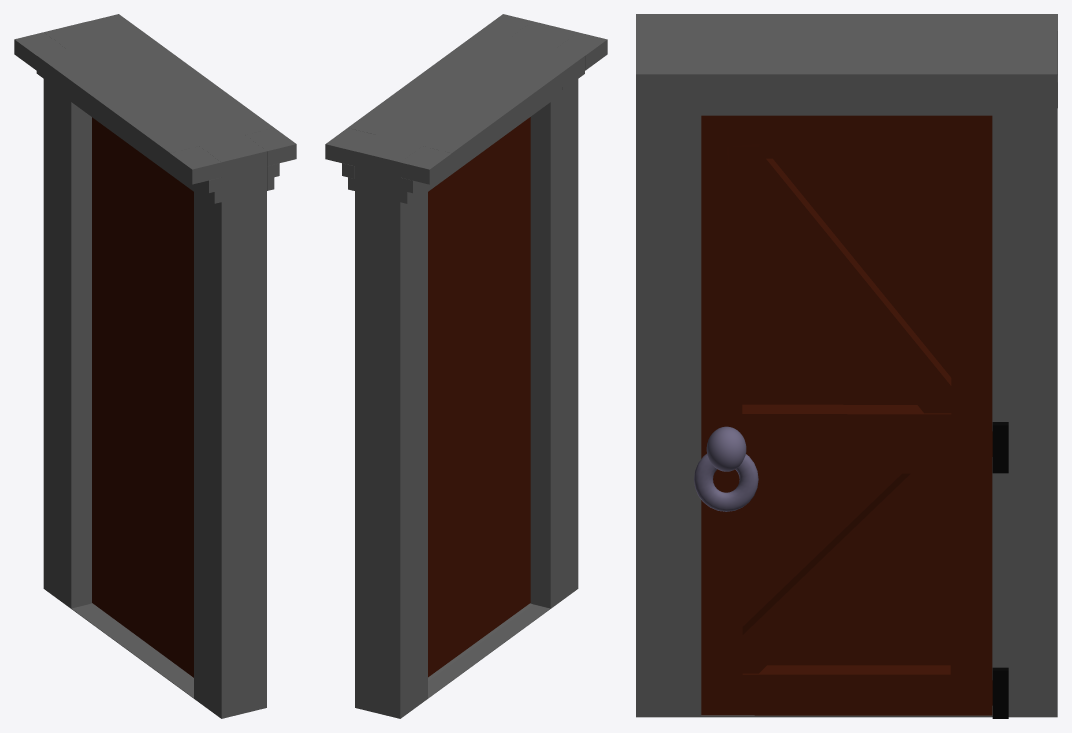
File: Door.FBX
3 views of the same model, side by side, from view 1: azimuth 30°, elevation 25°; view 2: azimuth 150°, elevation 25°; view 3: azimuth 270°, elevation 25° (orthographic). The views are drawn at different scales.
Visible parts, largest first — view 1: Door Frame, Door; view 2: Door Frame, Door; view 3: Door, Door Frame, Box003, Box004.
Boxes of the visible parts, x1,y1,x2,y2 form: Door Frame: [14, 14, 296, 718]; Door: [92, 117, 193, 677]; Door Frame: [325, 14, 607, 718]; Door: [428, 117, 530, 677]; Door: [694, 115, 992, 715]; Door Frame: [636, 14, 1057, 717]; Box003: [992, 422, 1008, 473]; Box004: [992, 667, 1008, 718].
Bounding box in the file's own units: 11.25 × 57.28 × 33.19.
